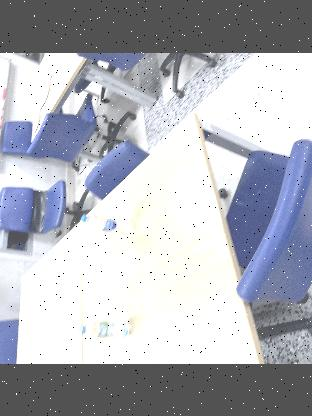Plastic Bottle: (79, 212, 137, 236), (78, 318, 136, 338)
